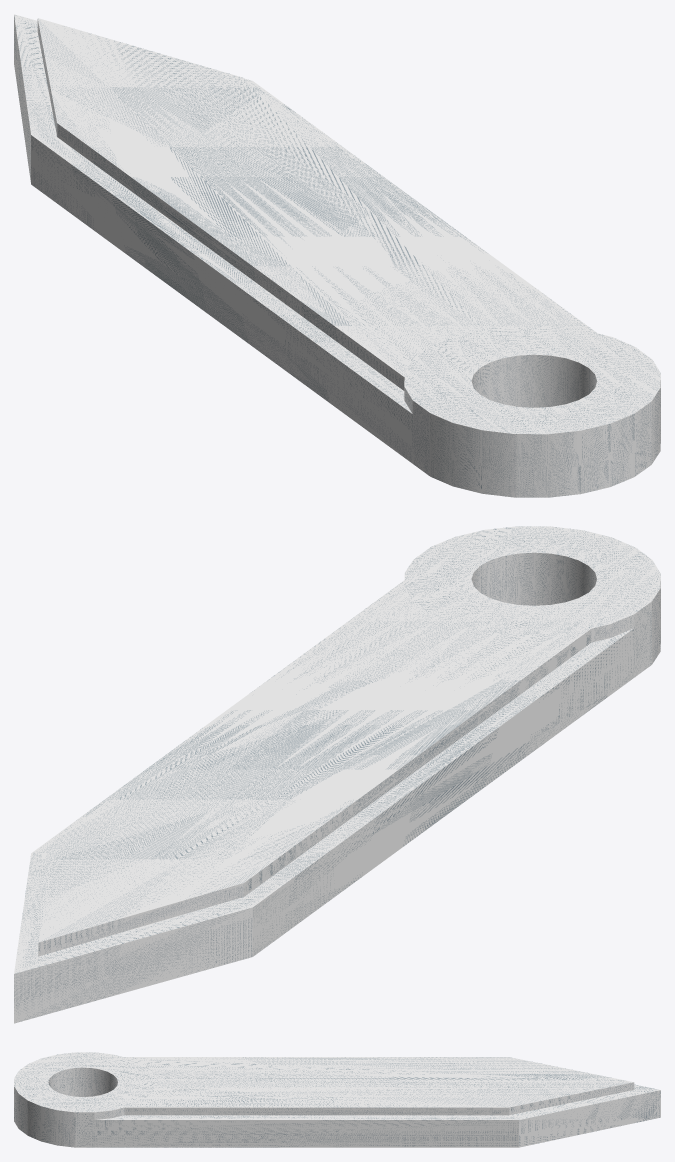
File: sword-a.fbx
3 renders of one model, top to bottom at view 1: azimuth 30°, elevation 25°; view 2: azimuth 150°, elevation 25°; view 3: azimuth 270°, elevation 25°, orthographic. The views are drawn at different scales.
Parts seen in each view (by area): view 1: Model; view 2: Model; view 3: Model.
Part boxes in pixels (bbox=[...]): Model: bbox=[14, 14, 660, 497]; Model: bbox=[14, 526, 660, 1023]; Model: bbox=[14, 1052, 660, 1147].
Bounding box in the file's own units: 800 × 219 × 3643.
